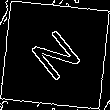N_SE: (23, 23, 87, 87)
